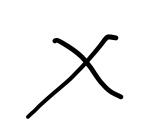mult: (26, 34, 123, 119)
